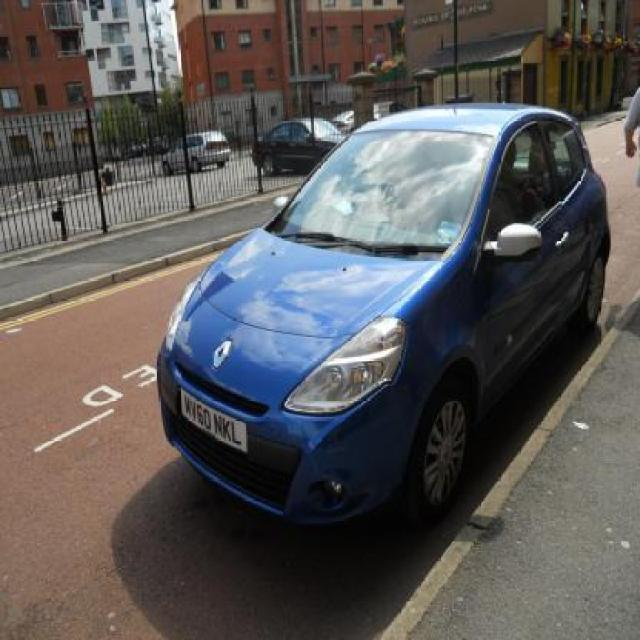Licenseplate: (178, 394, 249, 450)
